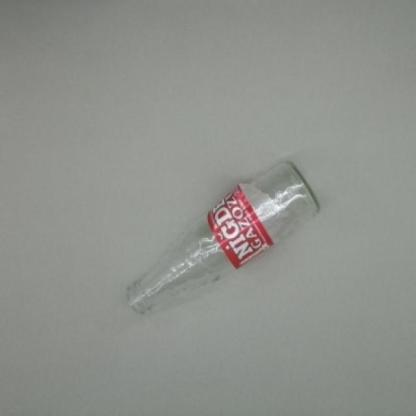Can: (127, 162, 320, 316)
